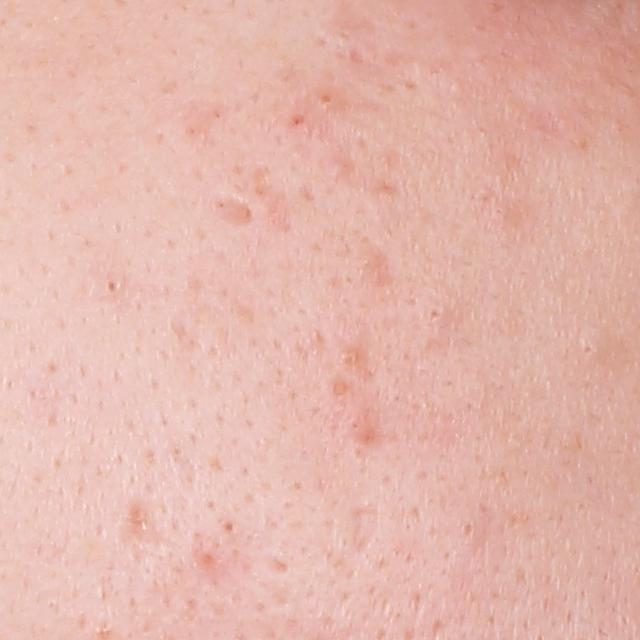atrophic_scar: (248, 162, 294, 237), (352, 499, 385, 563), (216, 193, 259, 226)
comedo: (324, 376, 354, 405), (573, 337, 604, 361), (333, 345, 362, 370), (423, 302, 446, 326), (327, 156, 353, 177), (220, 519, 241, 540), (101, 277, 122, 297), (459, 518, 477, 538), (318, 92, 334, 107)
